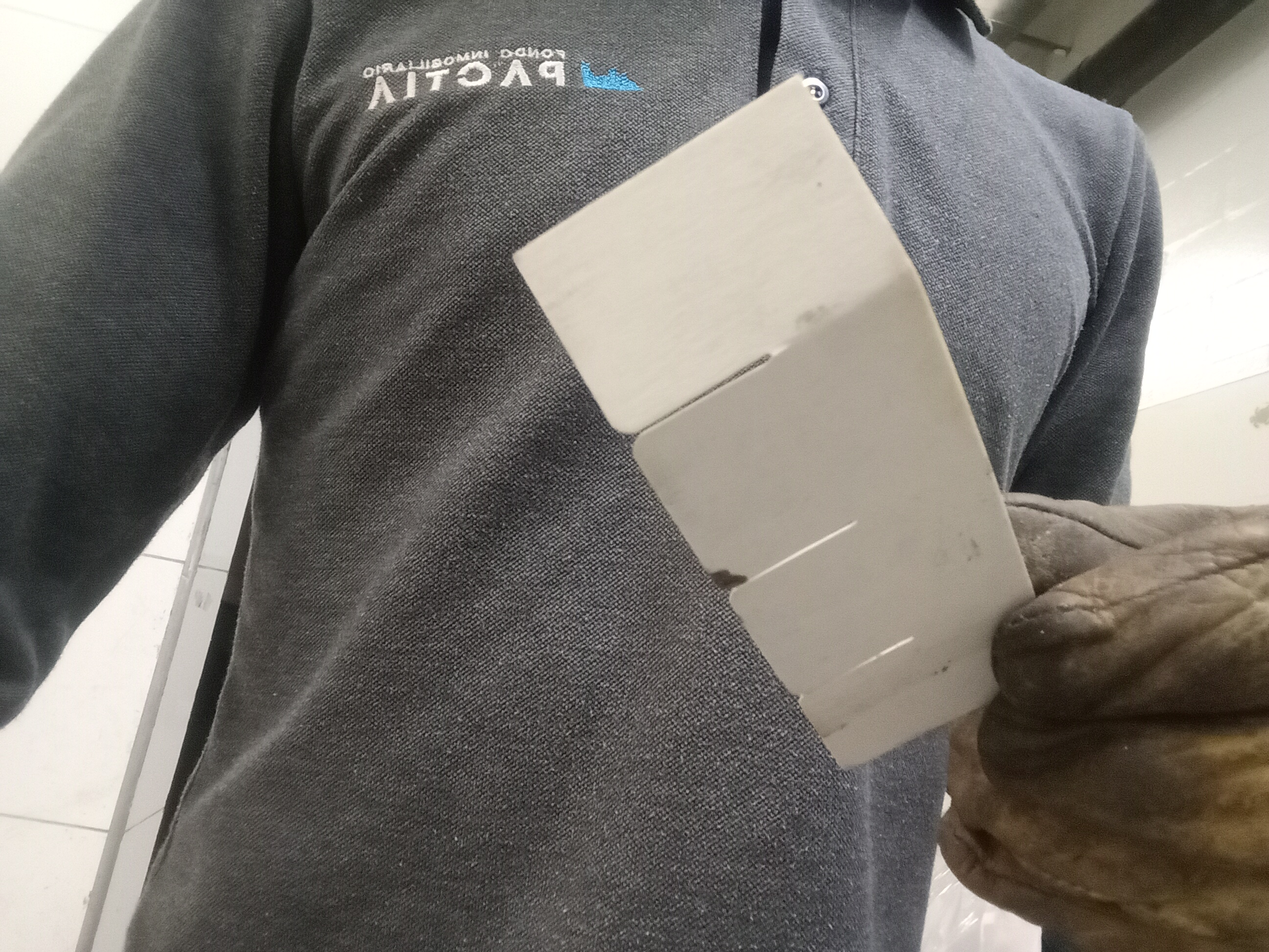Carton: (508, 74, 1050, 766)
